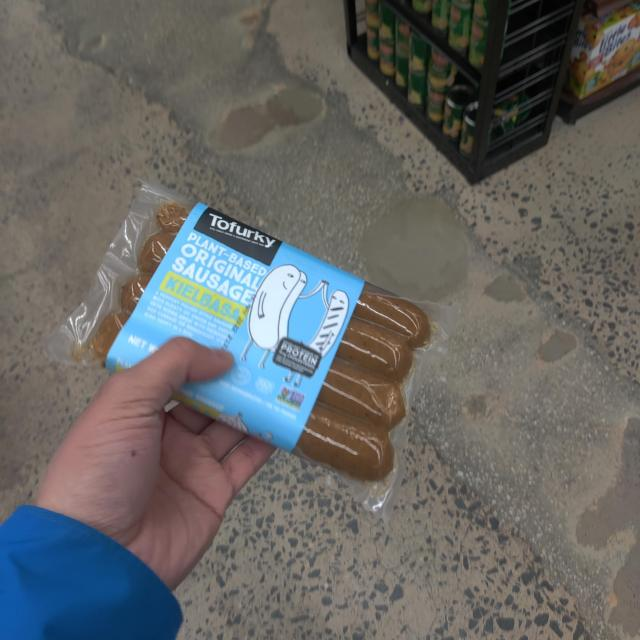Meat: (83, 202, 430, 508)
